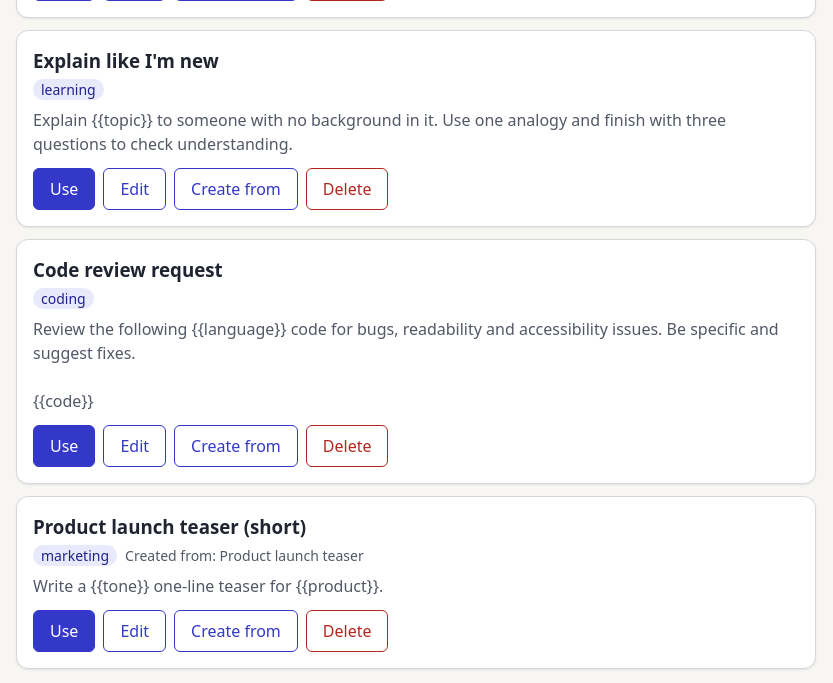
Test: App › edits a prompt
(page scrolled)
Click the button with aria-label "Edit Code review request". click: (135, 446)
box: [103,425,166,467]
(page scrolled)
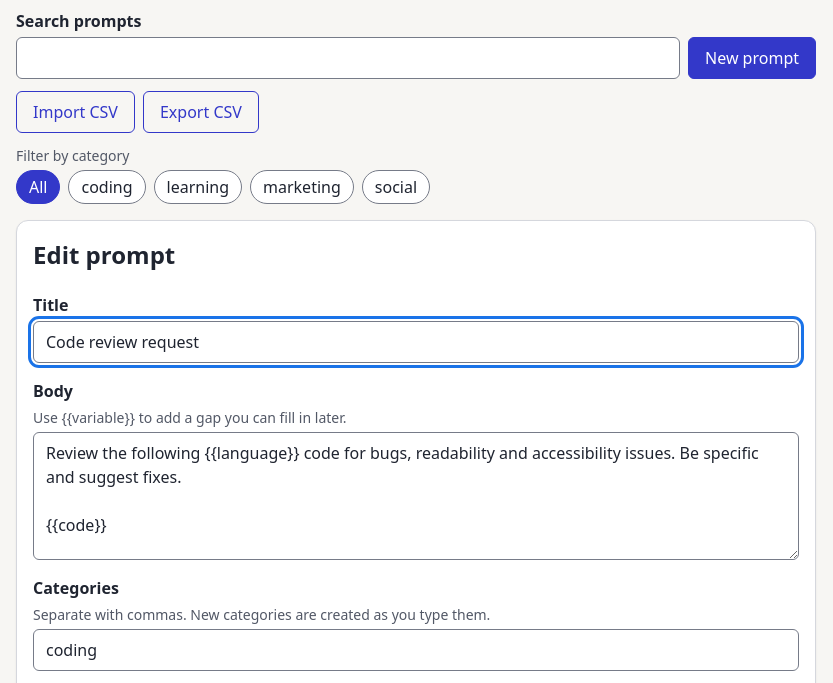
Replace the text in the field labelled "Title" with "Renamed review". click: (416, 342)
box: [33,321,799,363]
(page scrolled)
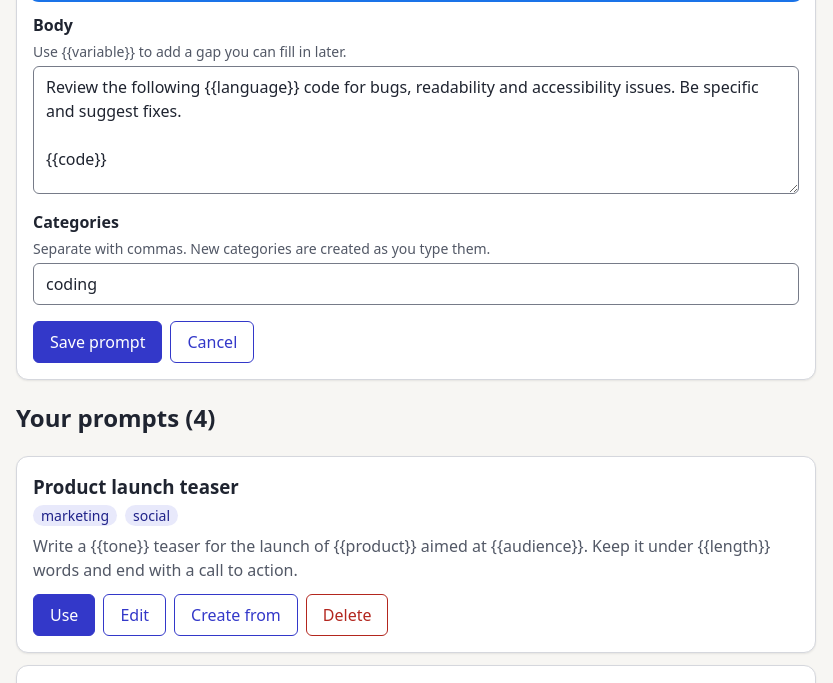
Click the button "Save prompt". click: (98, 342)
box: [33,321,162,363]
(page scrolled)
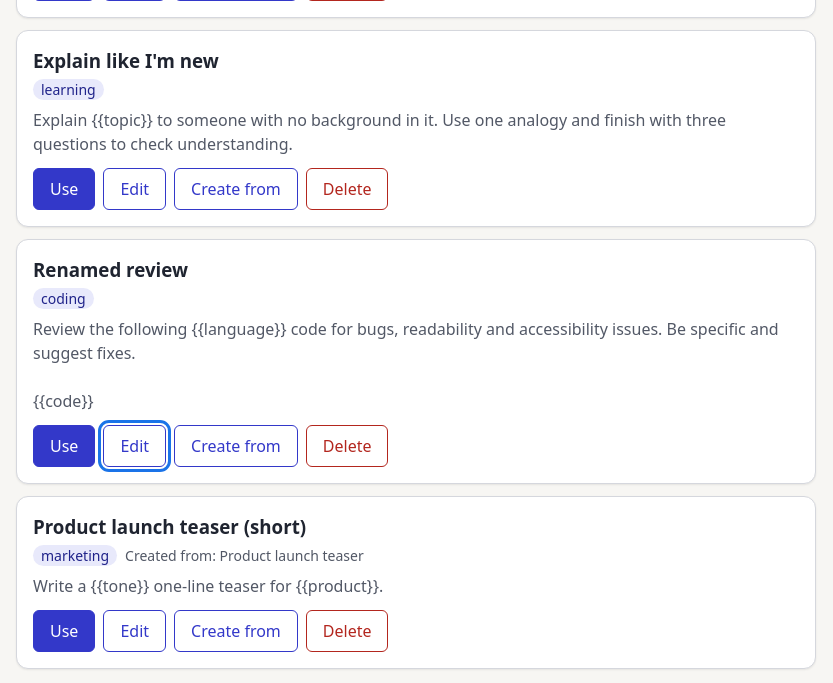
Now the heading "Renamed review" is shown, box [33,257,188,282]
